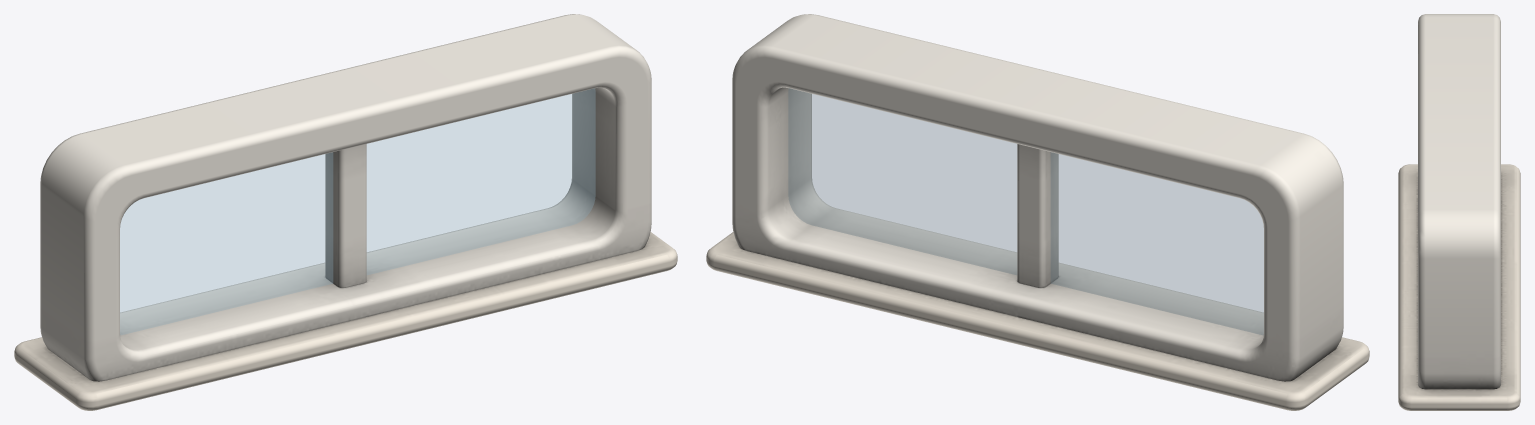
Rendered from clerestory_window.glb.
3 renders of one model, left to right at view 1: azimuth 30°, elevation 25°; view 2: azimuth 150°, elevation 25°; view 3: azimuth 270°, elevation 25°, orthographic. The views are drawn at different scales.
Parts seen in each view (by area): view 1: clerestory_window; view 2: clerestory_window; view 3: clerestory_window.
Part boxes in pixels (box(x1,y1,x2,y2)): clerestory_window: box(14, 14, 677, 410); clerestory_window: box(706, 14, 1369, 410); clerestory_window: box(1398, 14, 1520, 410).
Bounding box in the file's own units: 2.56 × 0.92 × 0.56.
3 materials, 2 textured.
